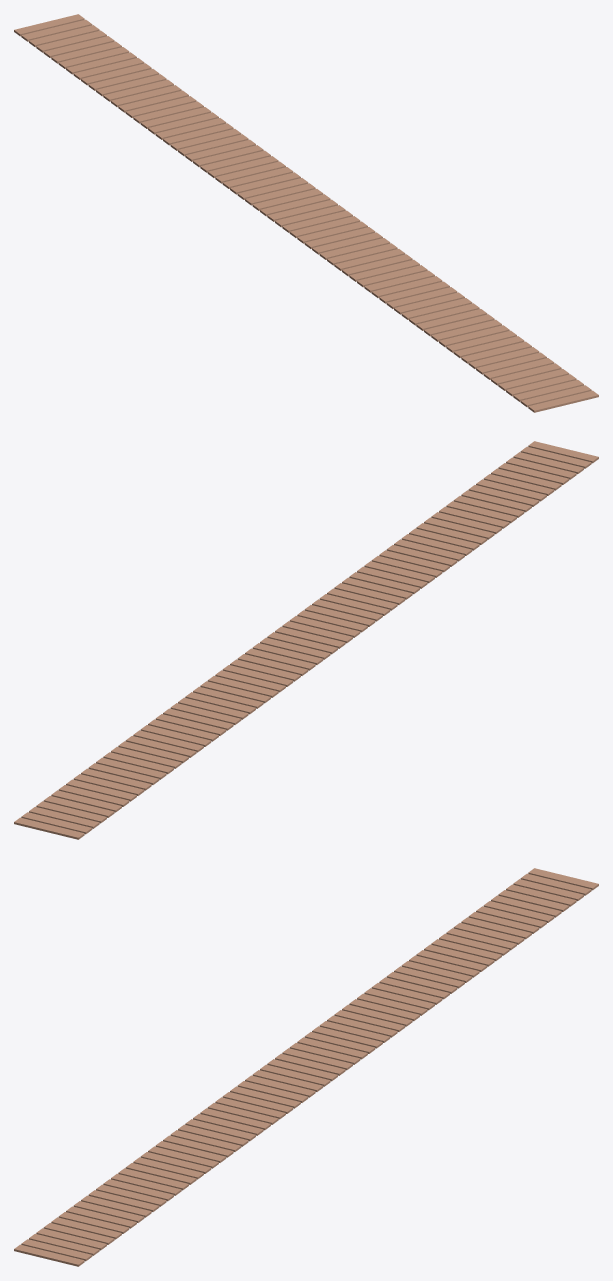
File: PlankBridge_3.obj
3 renders of one model, top to bottom at view 1: azimuth 30°, elevation 25°; view 2: azimuth 150°, elevation 25°; view 3: azimuth 330°, elevation 25°, orthographic.
Size of the model in its own units: 1 by 0.03 by 13.96.
